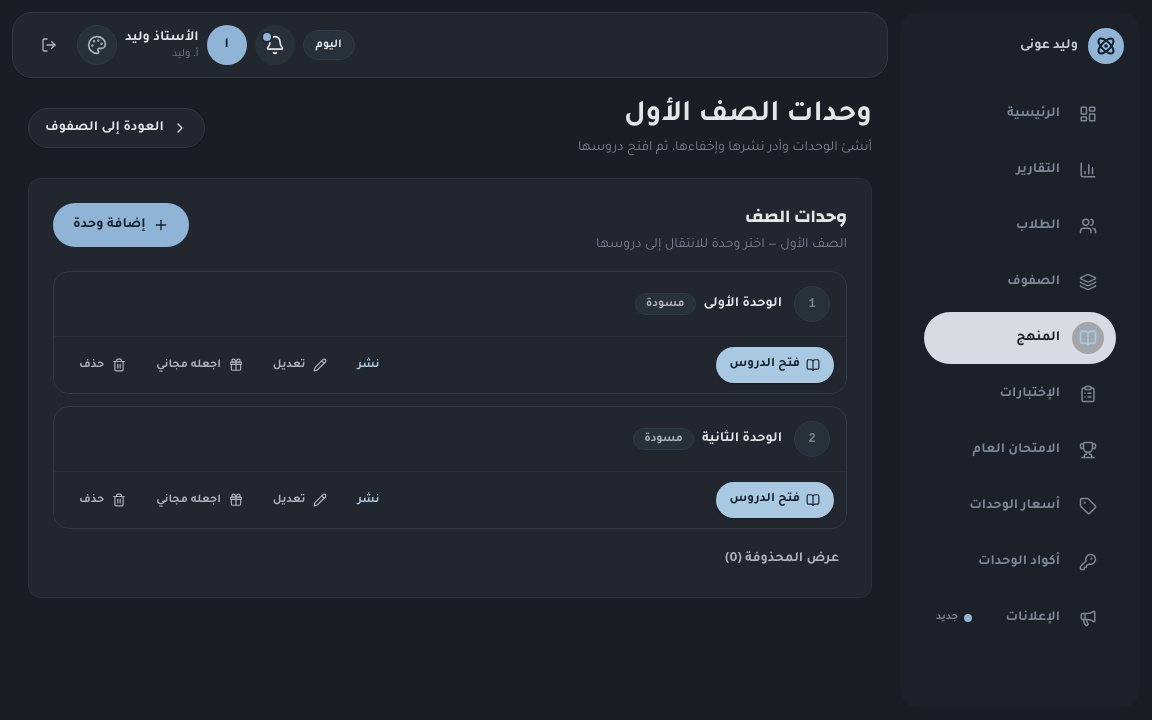
Test case: CurriculumPage › surfaces a duplicate unit name error as Arabic and keeps the modal open
Click the button "إضافة وحدة": (121, 225) x1=53 y1=203 x2=190 y2=247
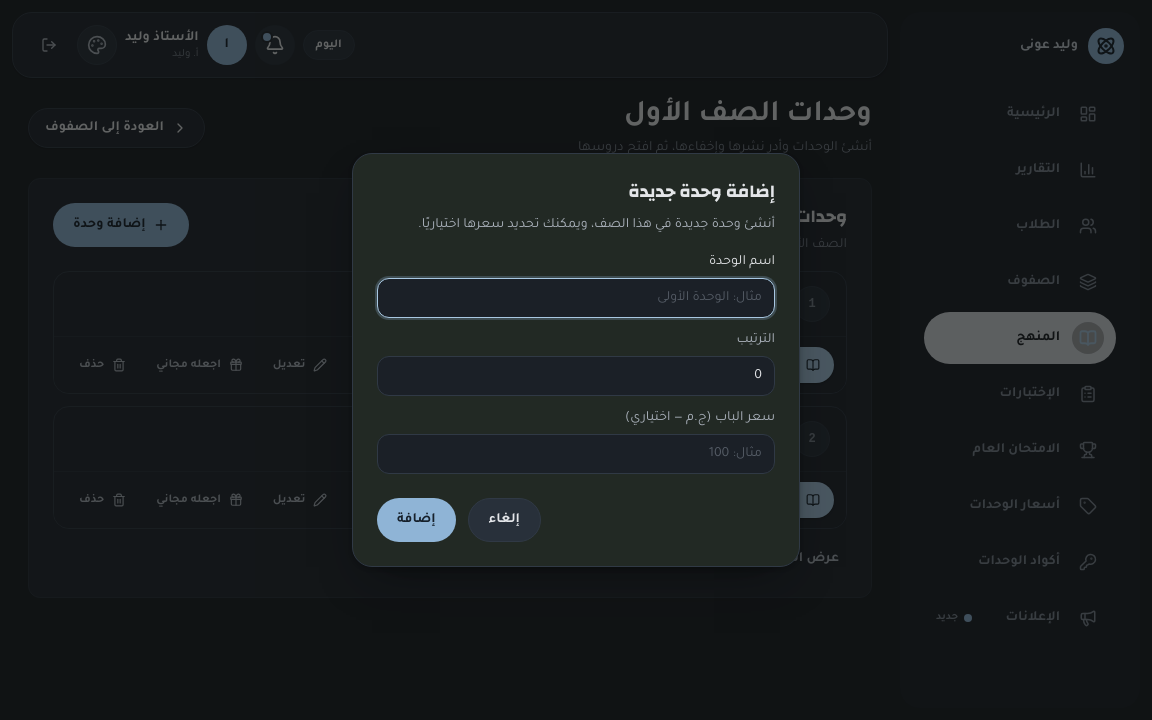
In the field labelled "اسم الوحدة": (576, 298) x1=377 y1=278 x2=775 y2=318, type "الوحدة الأولى"
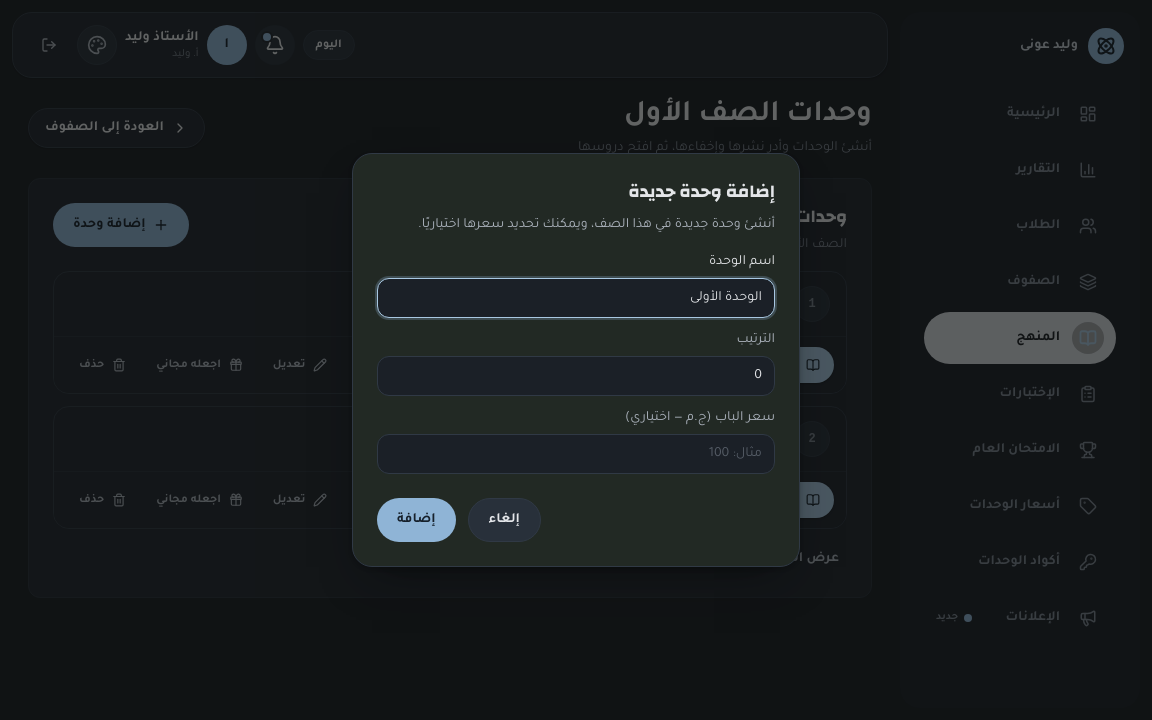
Click the button "إضافة": (416, 520) x1=377 y1=498 x2=456 y2=542
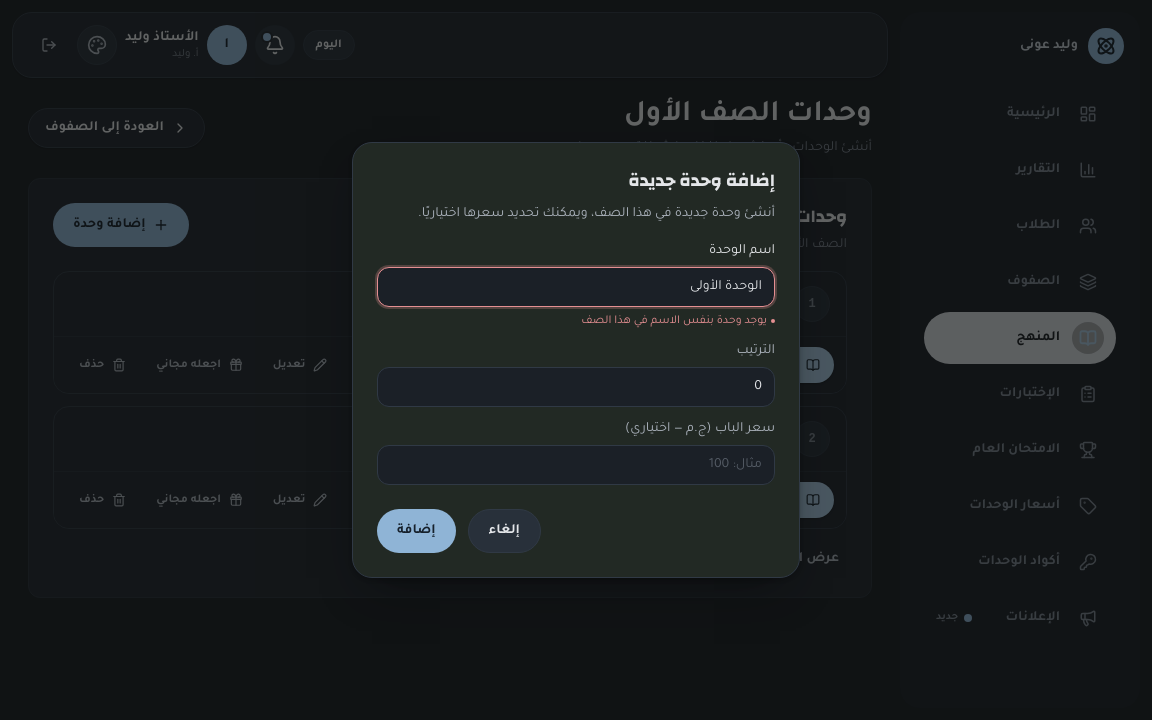
Result: the text "يوجد وحدة بنفس الاسم في هذا الصف" is shown at x1=581 y1=315 x2=775 y2=327
